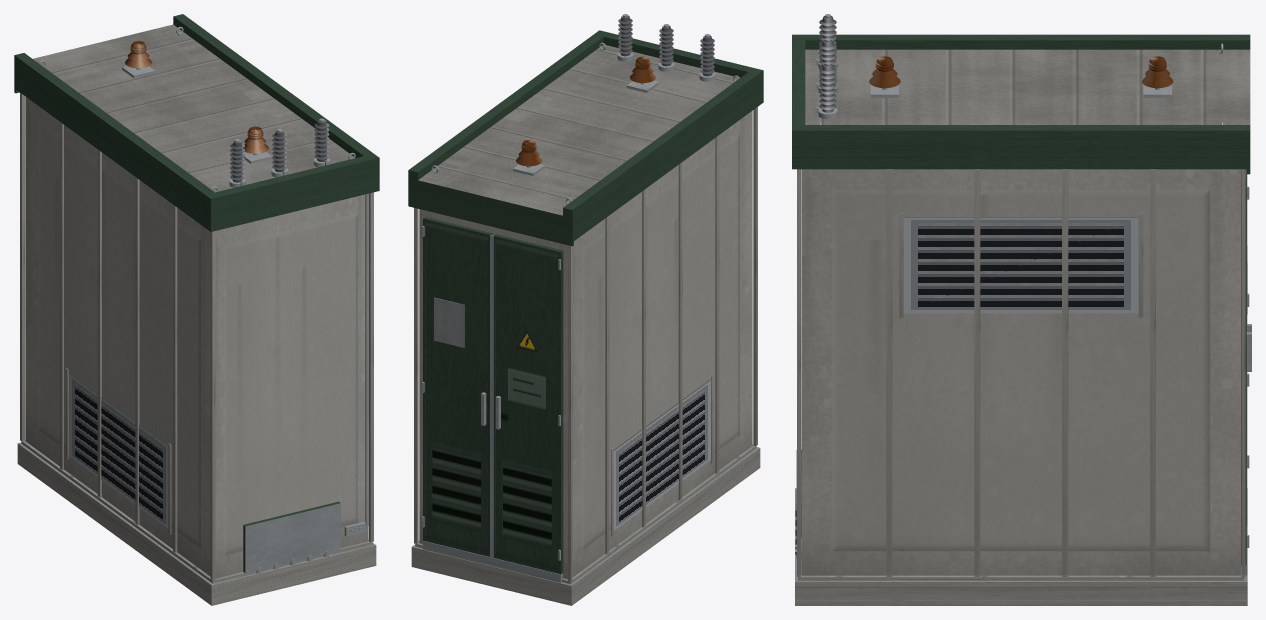
File: cab.obj
The picture shows the model from 3 angles, left to right: view 1: azimuth 30°, elevation 25°; view 2: azimuth 150°, elevation 25°; view 3: azimuth 270°, elevation 25°; orthographic projection. The views are drawn at different scales.
Visible parts, largest first — view 1: body, roof, plinth, vent, entryplate, signage, arrester_3, arrester_2, arrester_1, insulator_output, hardware, insulator_input; view 2: body, door, roof, plinth, vent, signage, arrester_3, arrester_2, arrester_1, hardware, insulator_output, insulator_input; view 3: body, roof, vent, plinth, door, arrester_3, insulator_output, insulator_input, hardware.
Part boxes in pixels (x1=…): body: x1=20, y1=92, x2=373, y2=580; roof: x1=14, y1=14, x2=379, y2=231; plinth: x1=17, y1=440, x2=376, y2=605; vent: x1=65, y1=368, x2=171, y2=534; entryplate: x1=243, y1=501, x2=340, y2=573; signage: x1=344, y1=193, x2=368, y2=536; arrester_3: x1=313, y1=118, x2=330, y2=167; arrester_2: x1=271, y1=128, x2=288, y2=177; arrester_1: x1=229, y1=139, x2=245, y2=187; insulator_output: x1=125, y1=41, x2=151, y2=68; hardware: x1=122, y1=66, x2=271, y2=163; insulator_input: x1=243, y1=126, x2=268, y2=153; body: x1=414, y1=107, x2=757, y2=582; door: x1=422, y1=217, x2=563, y2=574; roof: x1=408, y1=30, x2=763, y2=246; plinth: x1=411, y1=444, x2=760, y2=605; vent: x1=611, y1=375, x2=713, y2=536; signage: x1=434, y1=297, x2=464, y2=347; arrester_3: x1=617, y1=14, x2=633, y2=61; arrester_2: x1=658, y1=24, x2=674, y2=71; arrester_1: x1=699, y1=34, x2=715, y2=81; hardware: x1=513, y1=80, x2=658, y2=176; insulator_output: x1=516, y1=140, x2=542, y2=166; insulator_input: x1=629, y1=56, x2=655, y2=82; body: x1=797, y1=169, x2=1247, y2=577; roof: x1=792, y1=34, x2=1250, y2=174; vent: x1=899, y1=213, x2=1143, y2=318; plinth: x1=795, y1=488, x2=1247, y2=605; door: x1=1241, y1=169, x2=1251, y2=565; arrester_3: x1=816, y1=62, x2=837, y2=119; insulator_output: x1=1142, y1=56, x2=1173, y2=88; insulator_input: x1=869, y1=56, x2=900, y2=87; hardware: x1=870, y1=84, x2=1171, y2=97.
Size of the model in its own units: 1.2 by 3.03 by 2.43.
